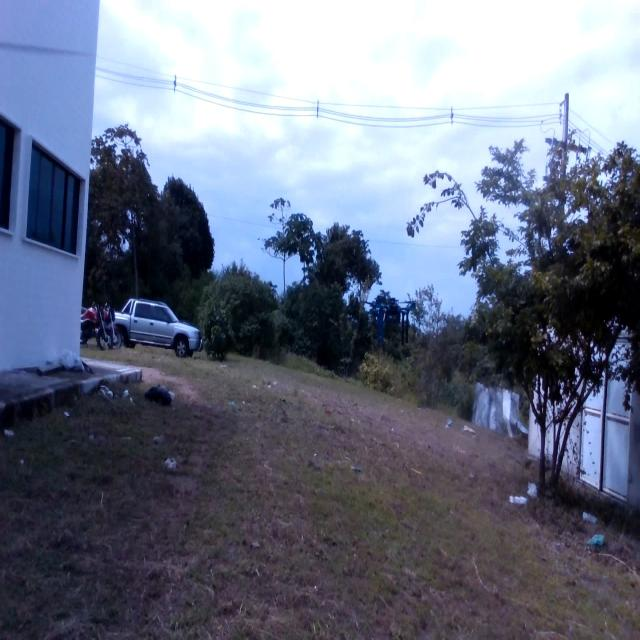-uav-: (362, 284, 425, 362)
